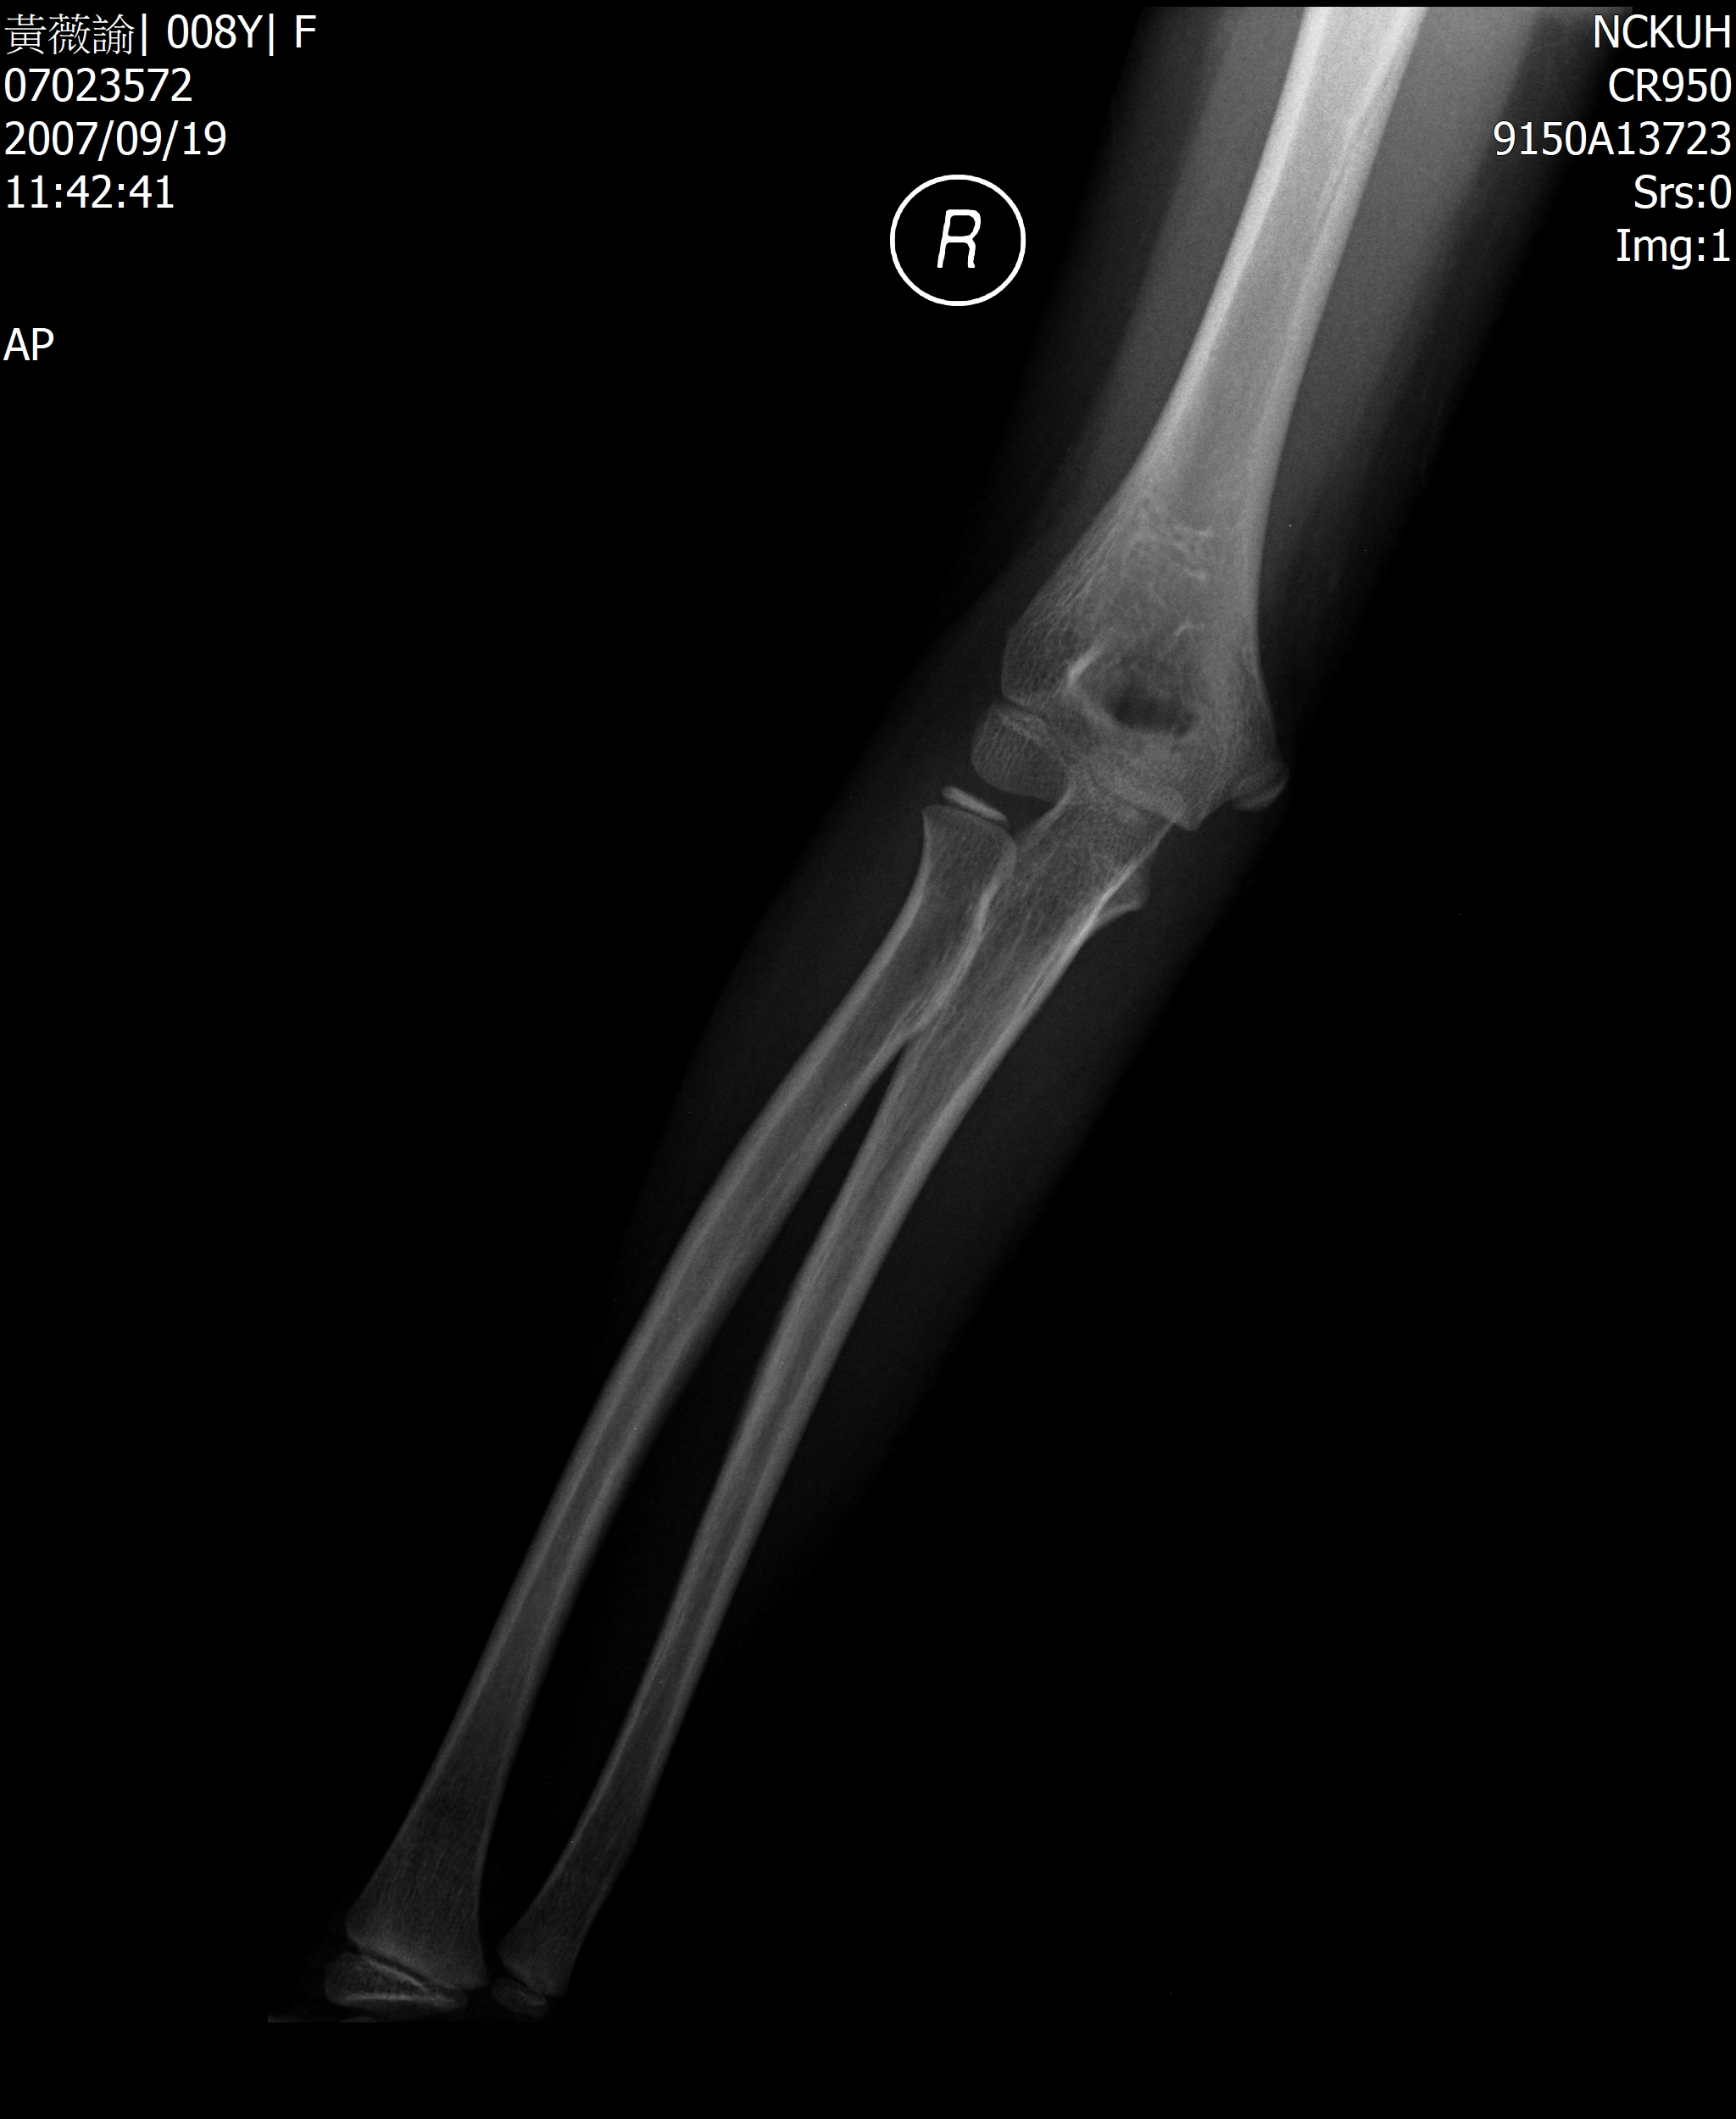Normal: (722, 391, 1479, 1109)
